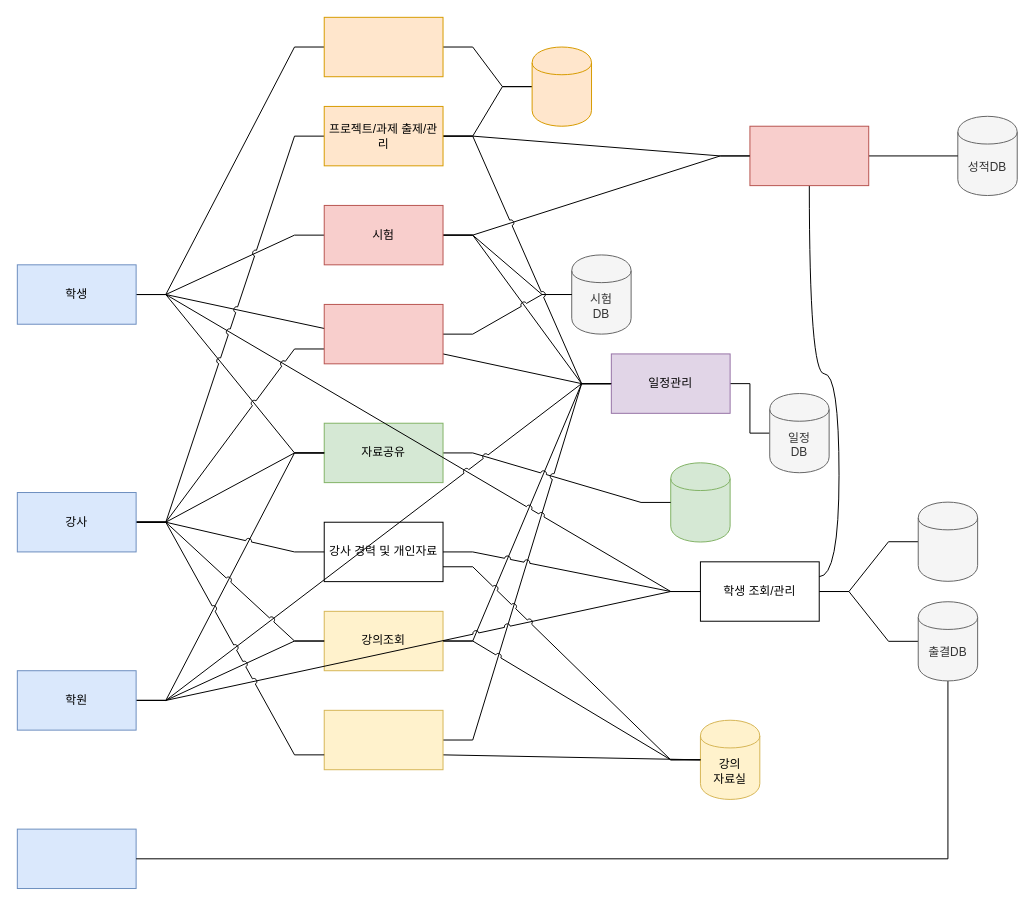
This 1035x906 diagram has some shape labels left out. Each missing label, with the centre of its shape:
"강의" belongs at (383,739).
"과제 자료실" belongs at (561,86).
"성적관리" belongs at (809,155).
"자료공유 저장소" belongs at (700,502).
"출석" belongs at (76,858).
"출제" belongs at (383,333).
"프로젝트/과제 제출" belongs at (383,46).
"학생DB" belongs at (947,541).
